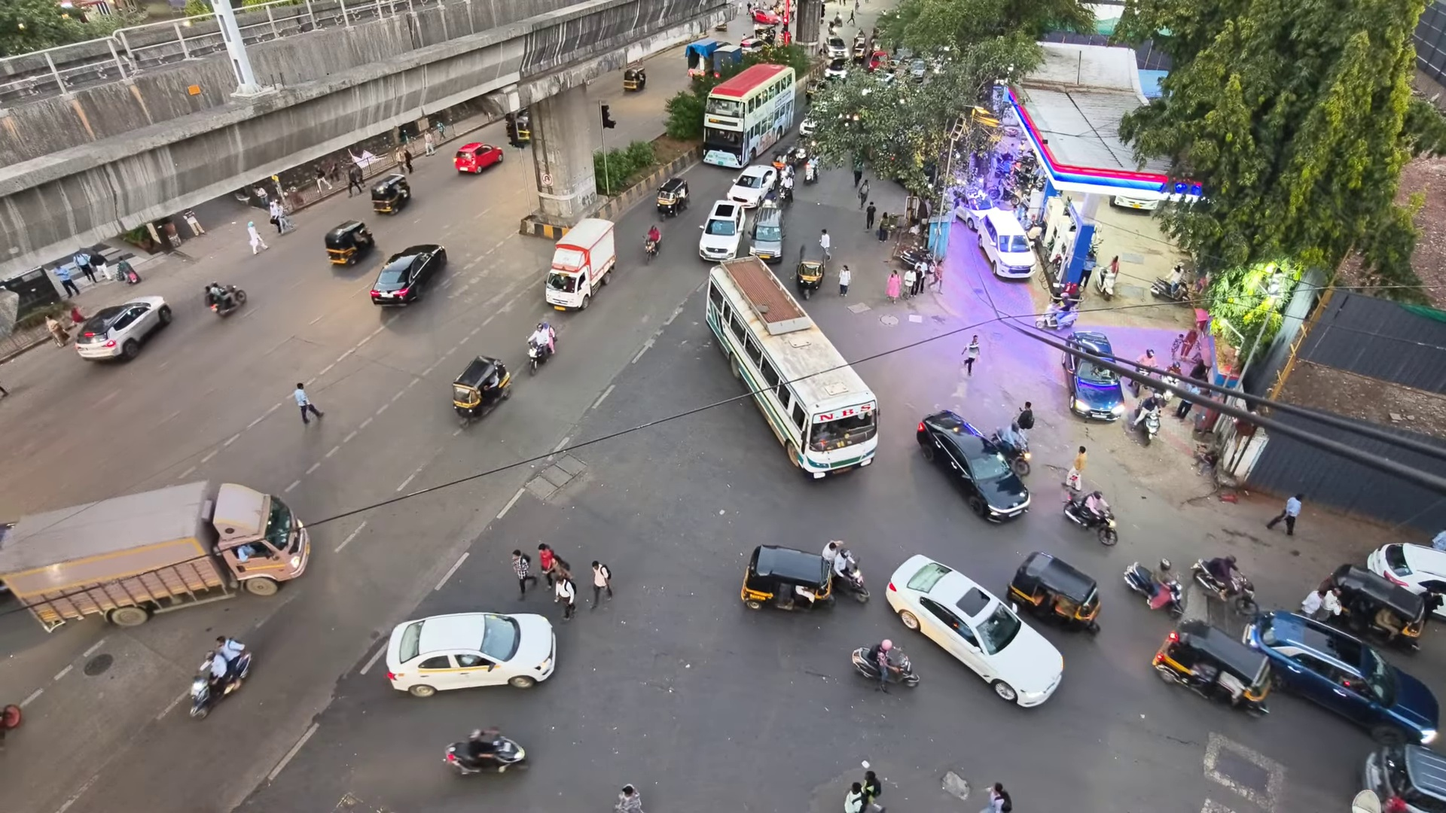driving: (0, 481, 309, 629), (705, 257, 877, 478), (886, 555, 1063, 706), (1242, 611, 1438, 744), (386, 612, 555, 697), (917, 410, 1029, 521), (1152, 620, 1272, 714), (703, 64, 795, 168), (1328, 565, 1428, 650), (1008, 551, 1100, 633), (545, 218, 616, 309), (75, 297, 172, 361), (740, 545, 835, 610), (1363, 744, 1445, 812), (370, 244, 446, 306), (189, 650, 251, 719), (975, 209, 1036, 279), (1062, 352, 1124, 420), (453, 355, 511, 426), (1365, 544, 1445, 593), (1191, 559, 1258, 614), (444, 732, 527, 775), (1123, 559, 1183, 617), (1063, 495, 1118, 545), (699, 201, 744, 261), (726, 164, 777, 208), (324, 221, 375, 265), (749, 202, 784, 263), (832, 547, 870, 602), (989, 429, 1031, 477), (370, 172, 411, 213), (794, 246, 825, 300), (684, 38, 726, 76), (453, 142, 503, 173), (526, 321, 555, 374), (206, 283, 246, 317), (886, 649, 920, 687), (1131, 403, 1161, 446), (656, 177, 688, 217), (711, 44, 744, 76), (0, 704, 23, 748), (622, 63, 646, 91), (826, 35, 849, 59), (823, 58, 849, 79), (750, 8, 781, 25), (739, 36, 767, 53), (798, 116, 816, 136)
walking: (1266, 494, 1303, 534), (1301, 585, 1341, 620), (293, 383, 323, 424), (512, 550, 538, 597), (591, 560, 612, 608), (554, 576, 575, 620), (862, 770, 884, 812), (981, 783, 1011, 812), (72, 251, 96, 283), (539, 543, 556, 588), (962, 334, 980, 376), (1014, 401, 1034, 438), (615, 785, 642, 812), (55, 266, 79, 296), (247, 221, 268, 254), (45, 316, 68, 346), (844, 782, 864, 812), (913, 260, 929, 296), (347, 164, 364, 196), (269, 199, 284, 234), (886, 269, 901, 302), (315, 164, 332, 193), (903, 267, 917, 297), (838, 264, 851, 296), (1176, 397, 1193, 419), (819, 229, 831, 259), (877, 212, 889, 241), (857, 180, 869, 209), (70, 306, 86, 326), (865, 201, 876, 230), (402, 147, 413, 173), (424, 130, 434, 155), (393, 145, 404, 167), (853, 166, 863, 187)
